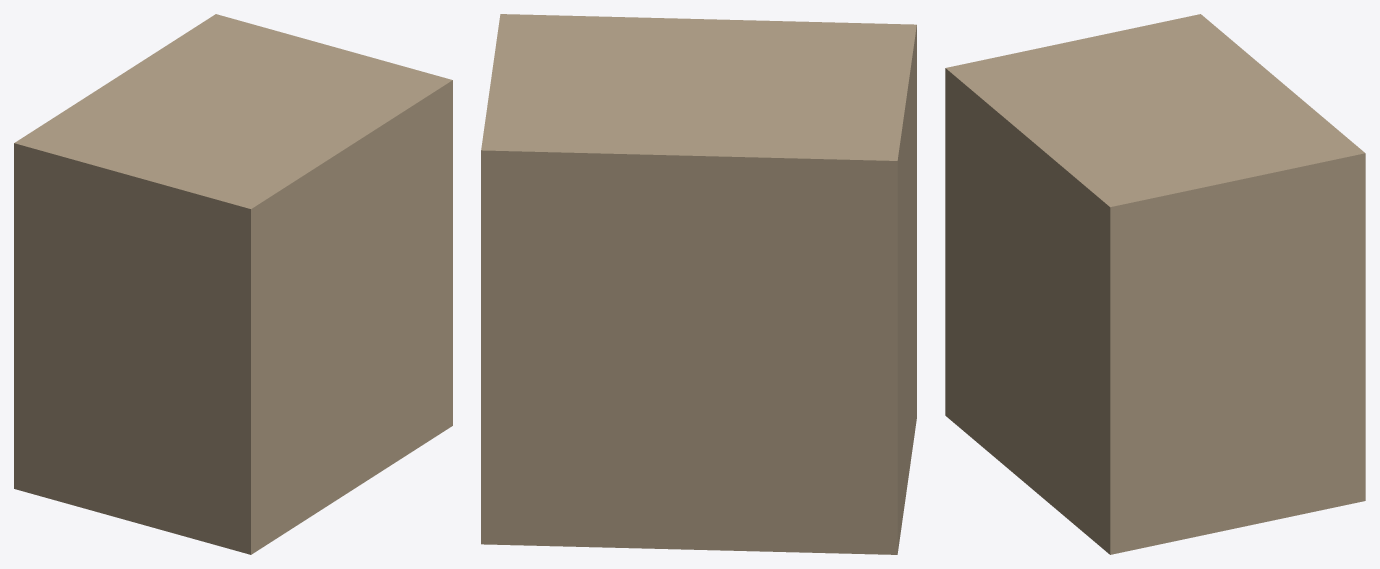
The model's file is bld_106338983.dae.
The picture shows the model from 3 angles, left to right: view 1: azimuth 30°, elevation 25°; view 2: azimuth 150°, elevation 25°; view 3: azimuth 270°, elevation 25°; orthographic projection. The views are drawn at different scales.
Visible parts, largest first — view 1: bld_106338983; view 2: bld_106338983; view 3: bld_106338983.
Boxes of the visible parts, box(x1,y1,x2,y2) form: bld_106338983: box(14, 14, 452, 554); bld_106338983: box(481, 14, 916, 554); bld_106338983: box(945, 14, 1365, 554).
Size of the model in its own units: 9.53 by 8.76 by 8.
